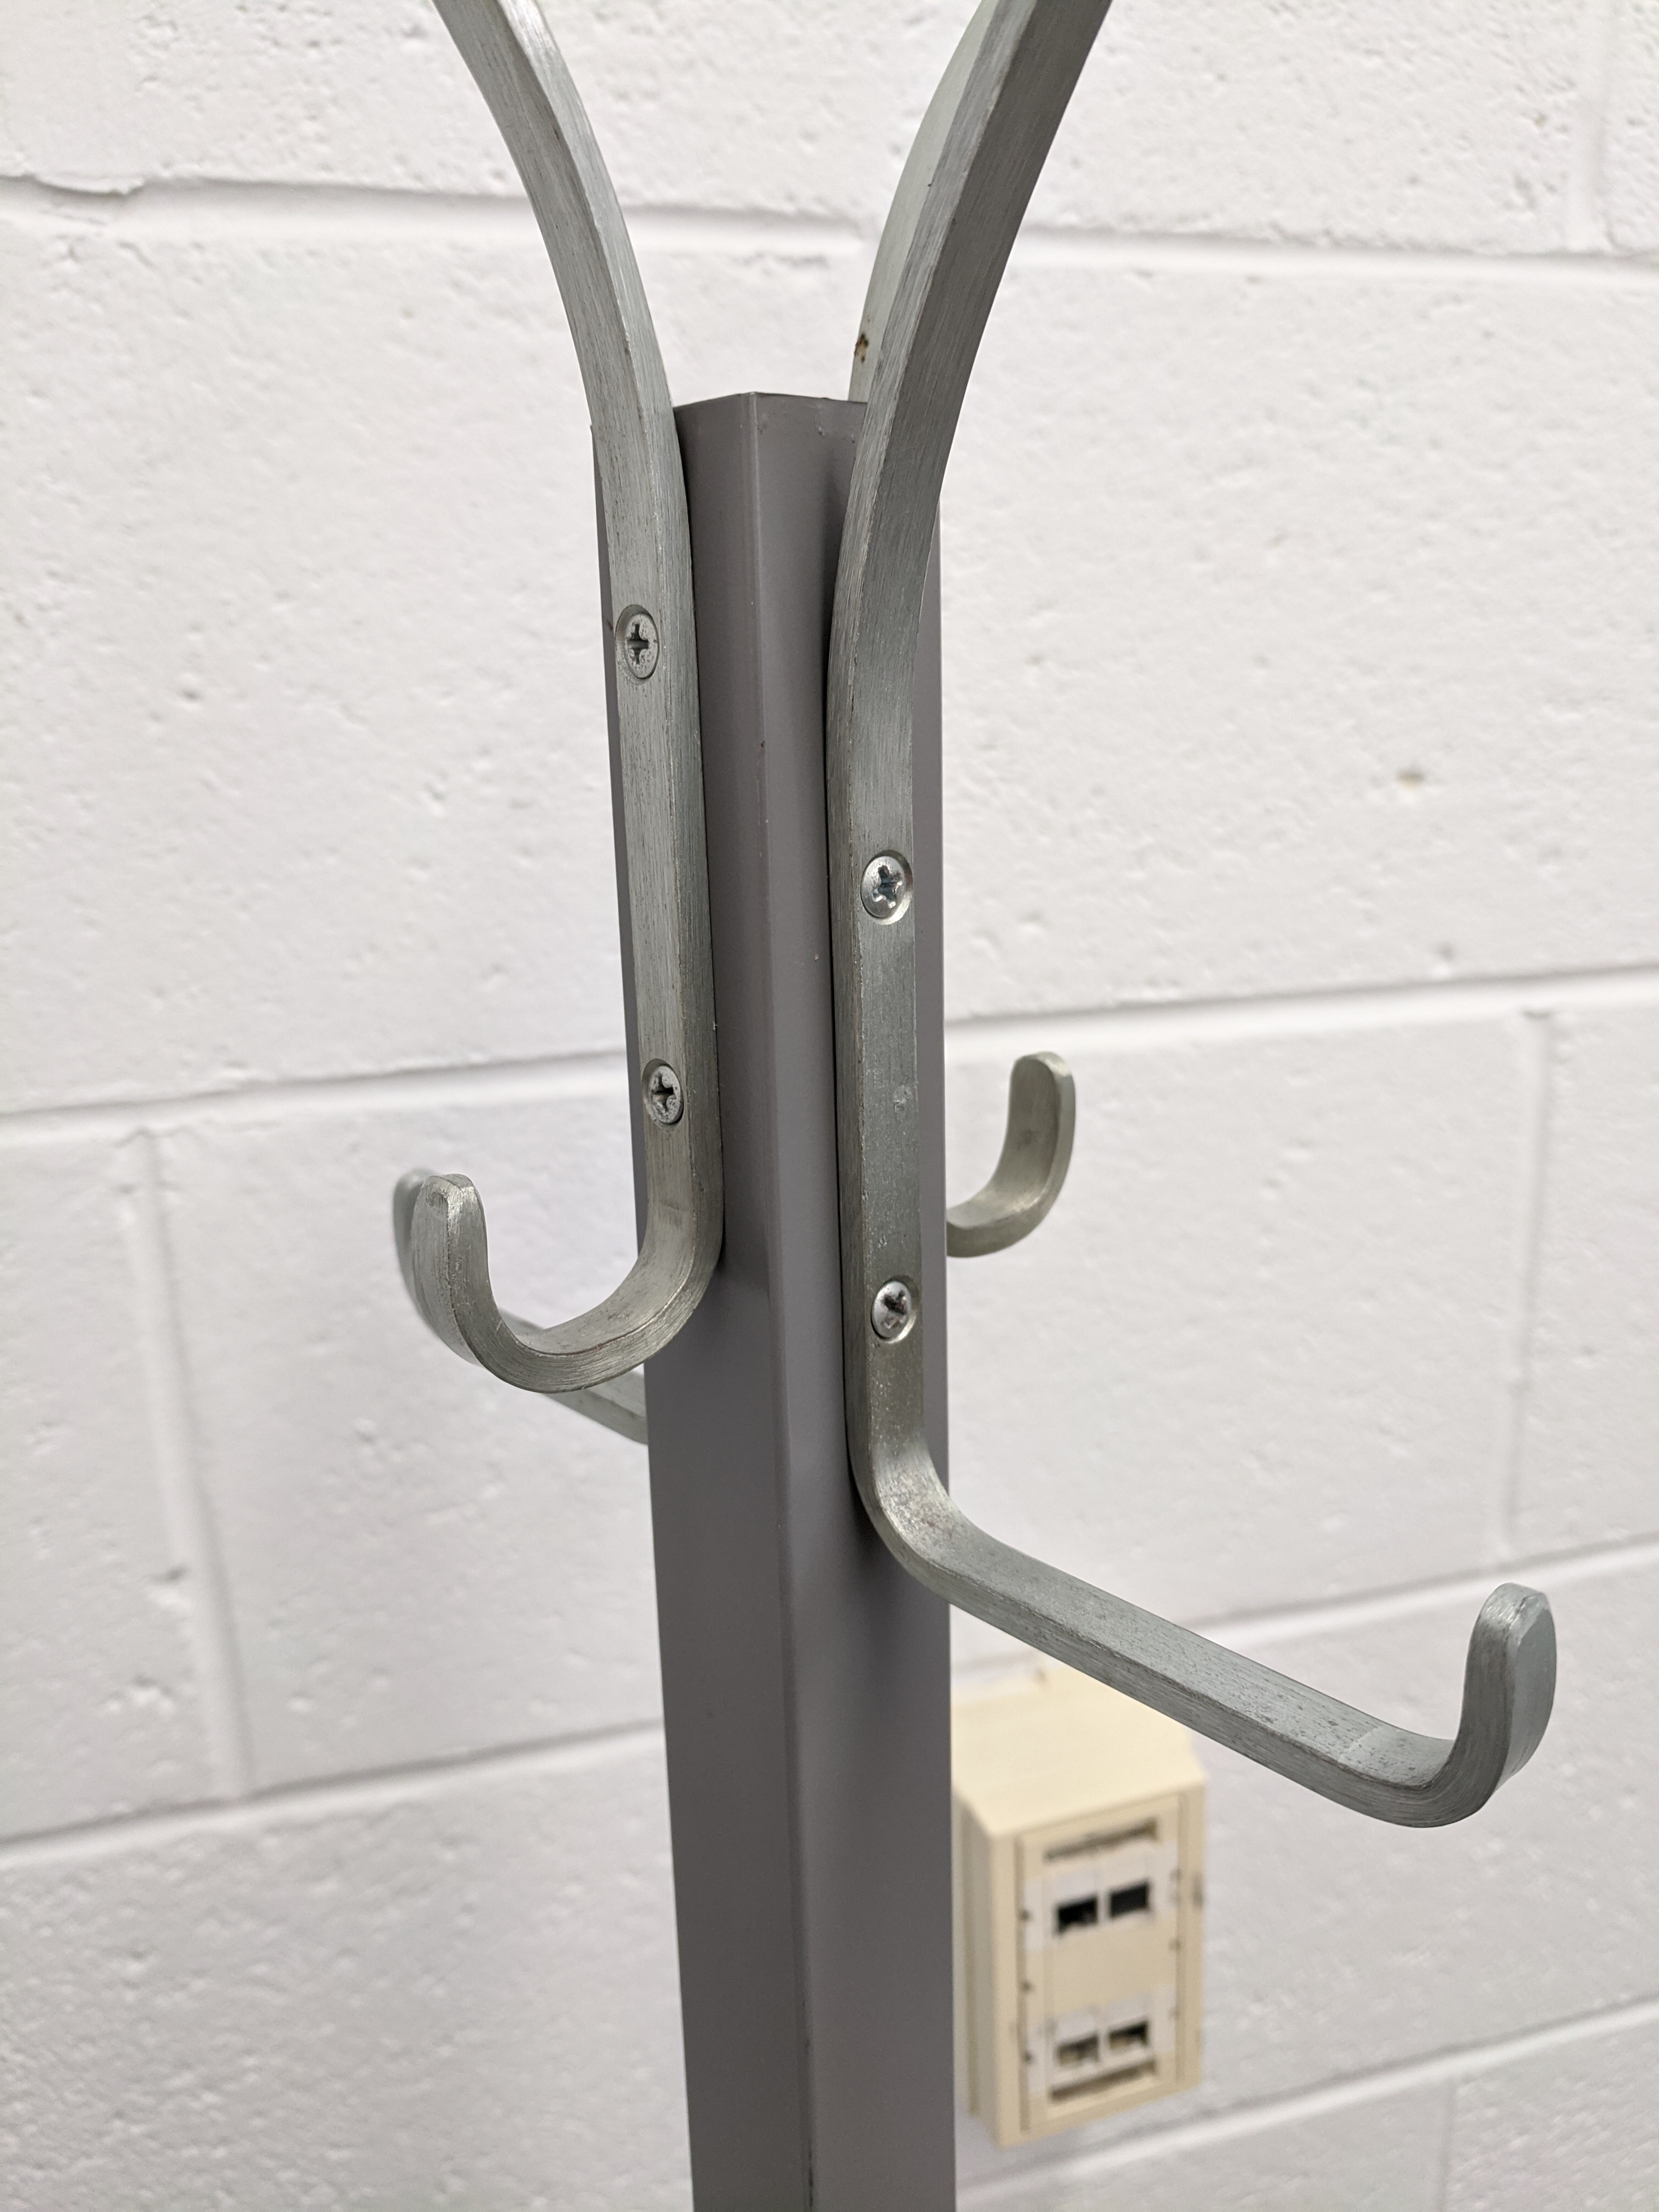cross_recessed_screw: (599, 582, 669, 688), (842, 831, 922, 923), (633, 1035, 695, 1137), (864, 1256, 925, 1359)
